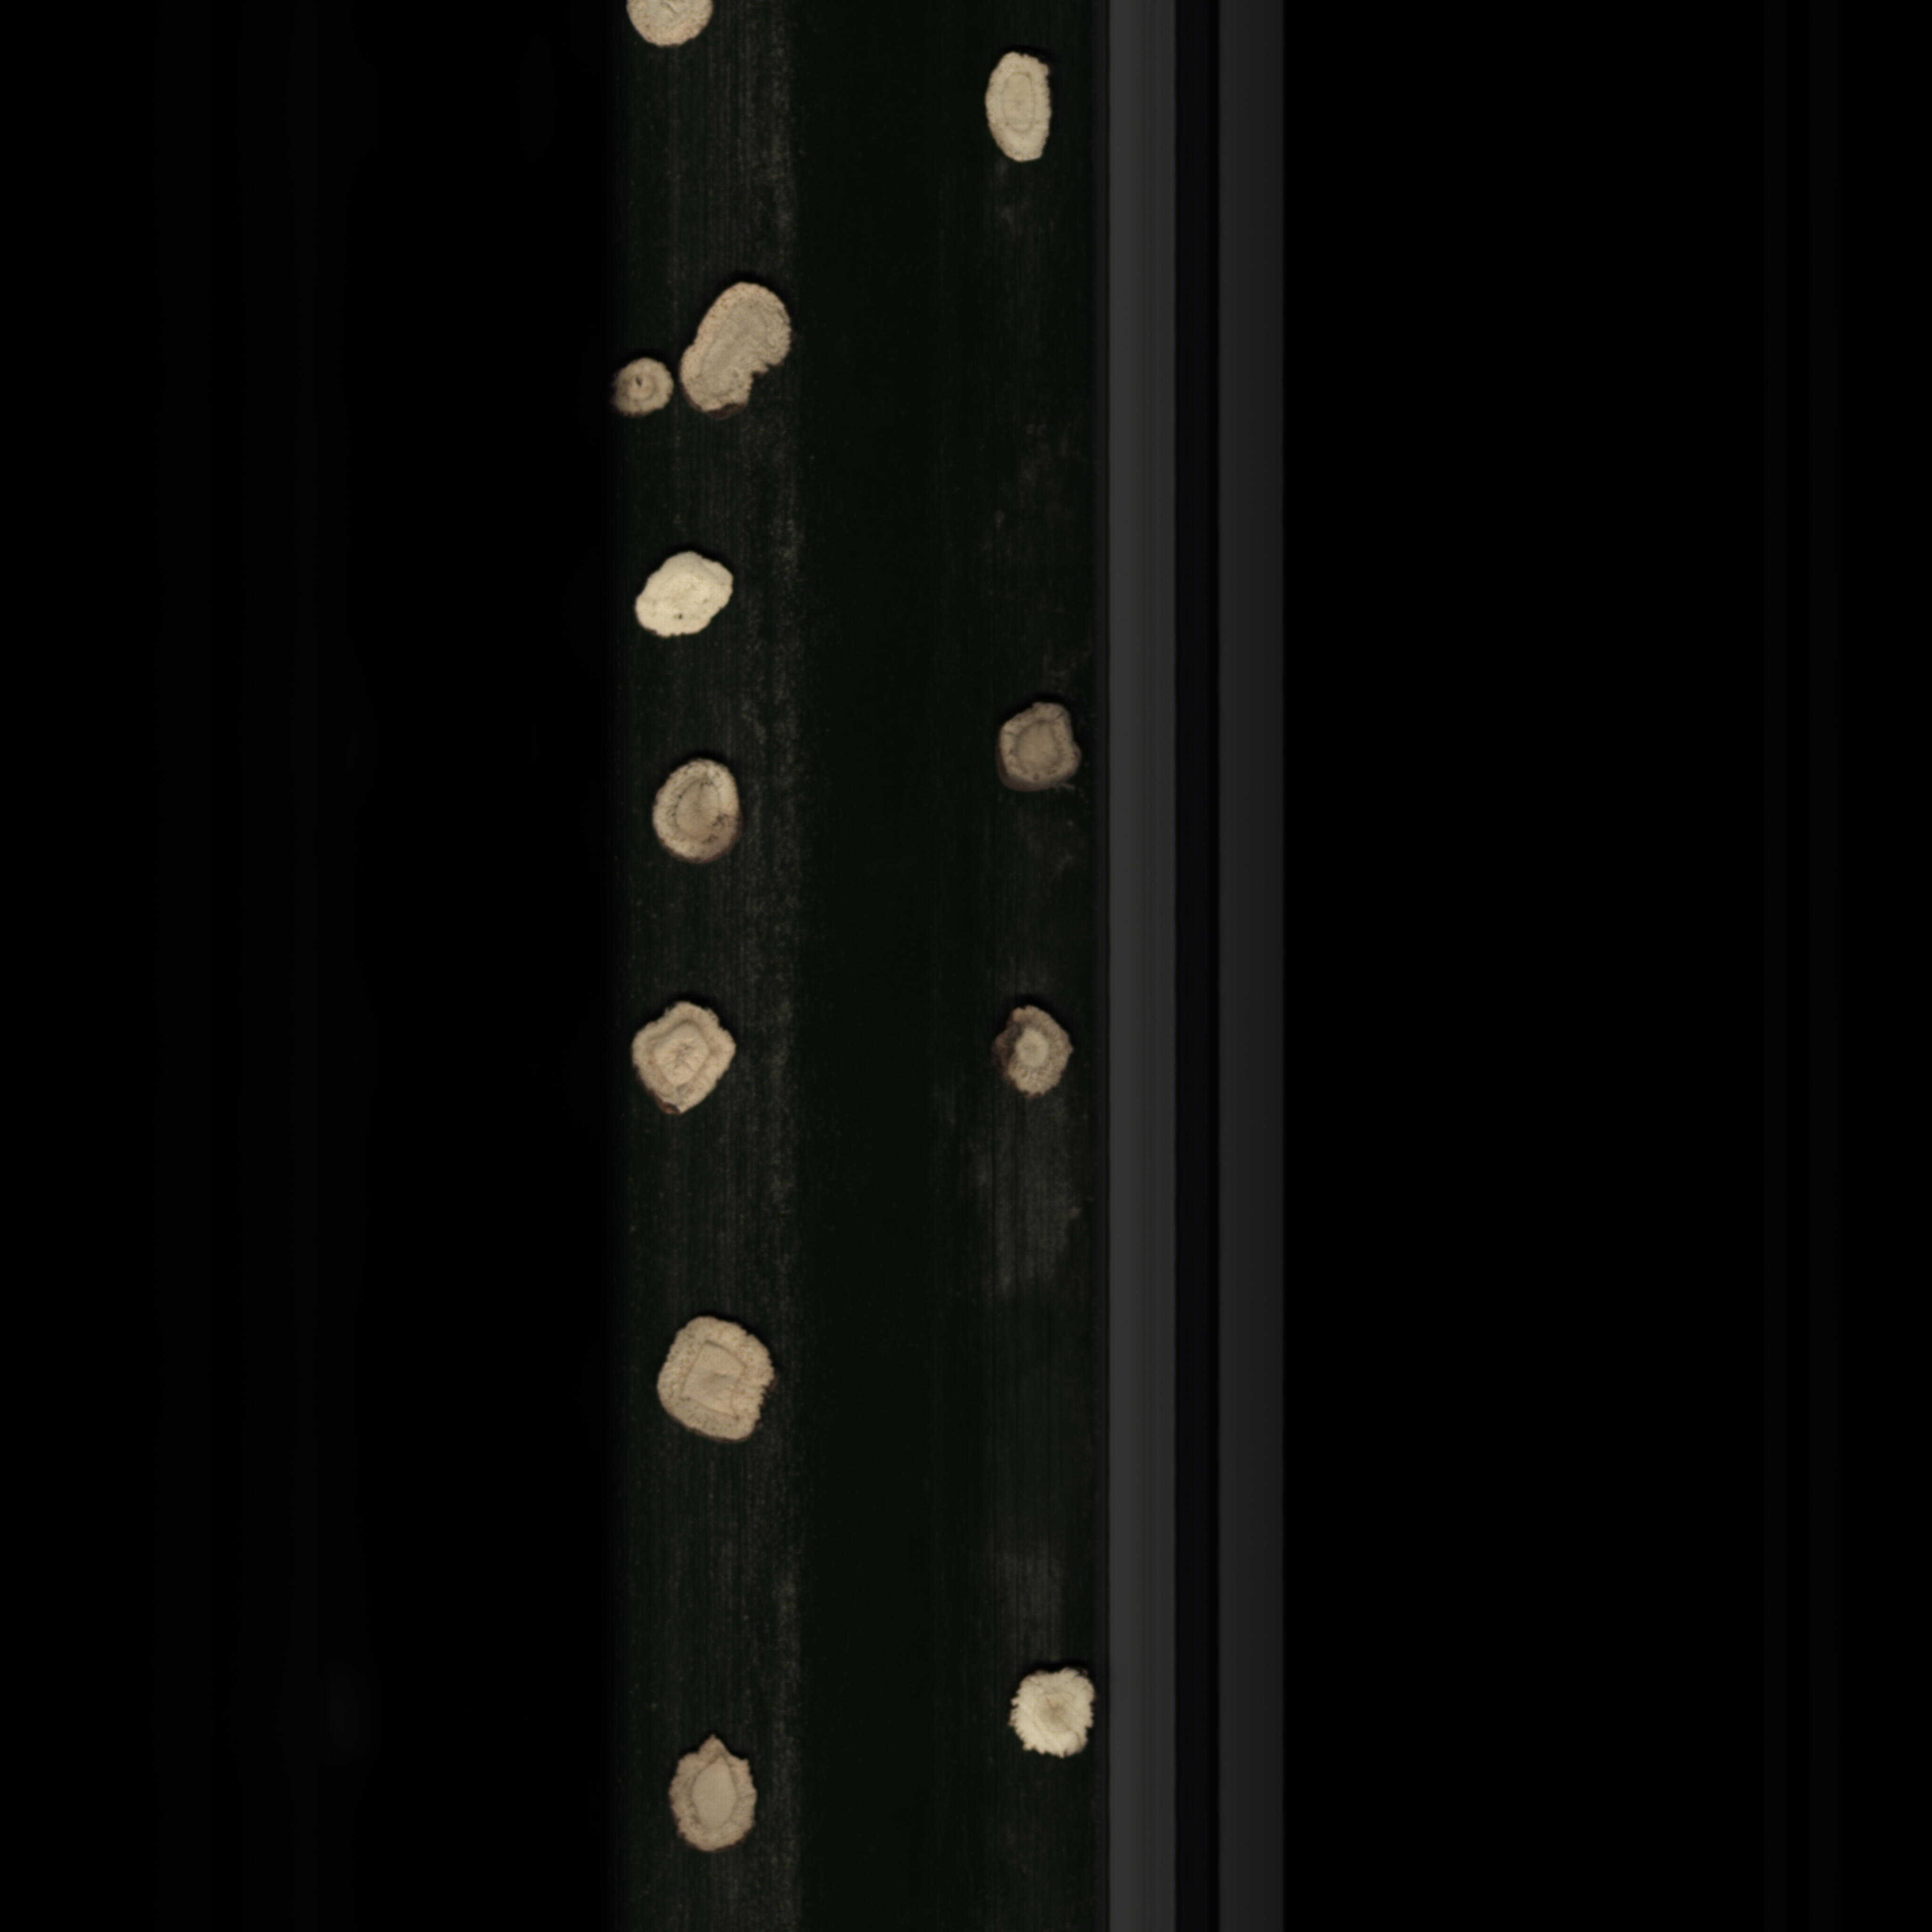distortion: (679, 281, 794, 423), (623, 543, 741, 642), (977, 994, 1076, 1109)
